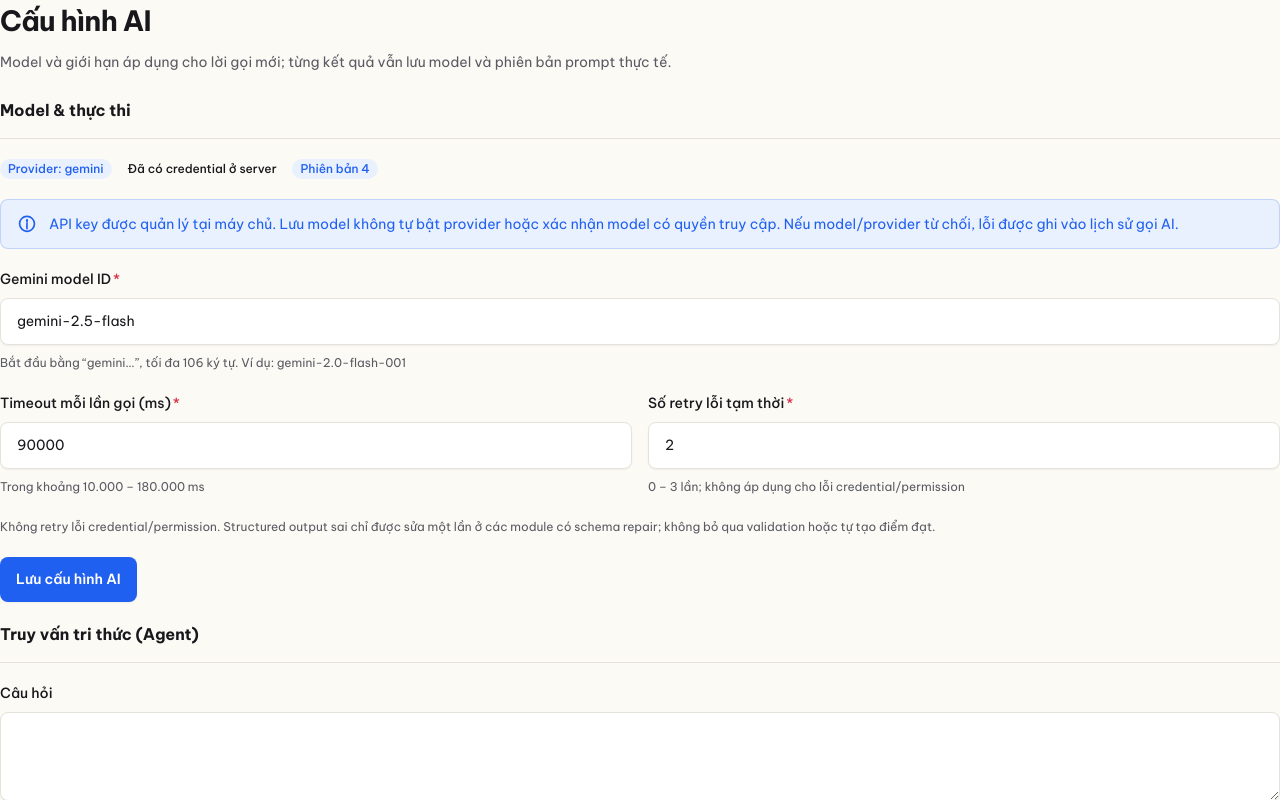
keeps edited values and never claims success when the server rejects a save
Replace the text in the field labelled "Gemini model ID*" with "gemini-2.5-pro". click: (640, 322)
box: left=0, top=298, right=1279, bottom=345
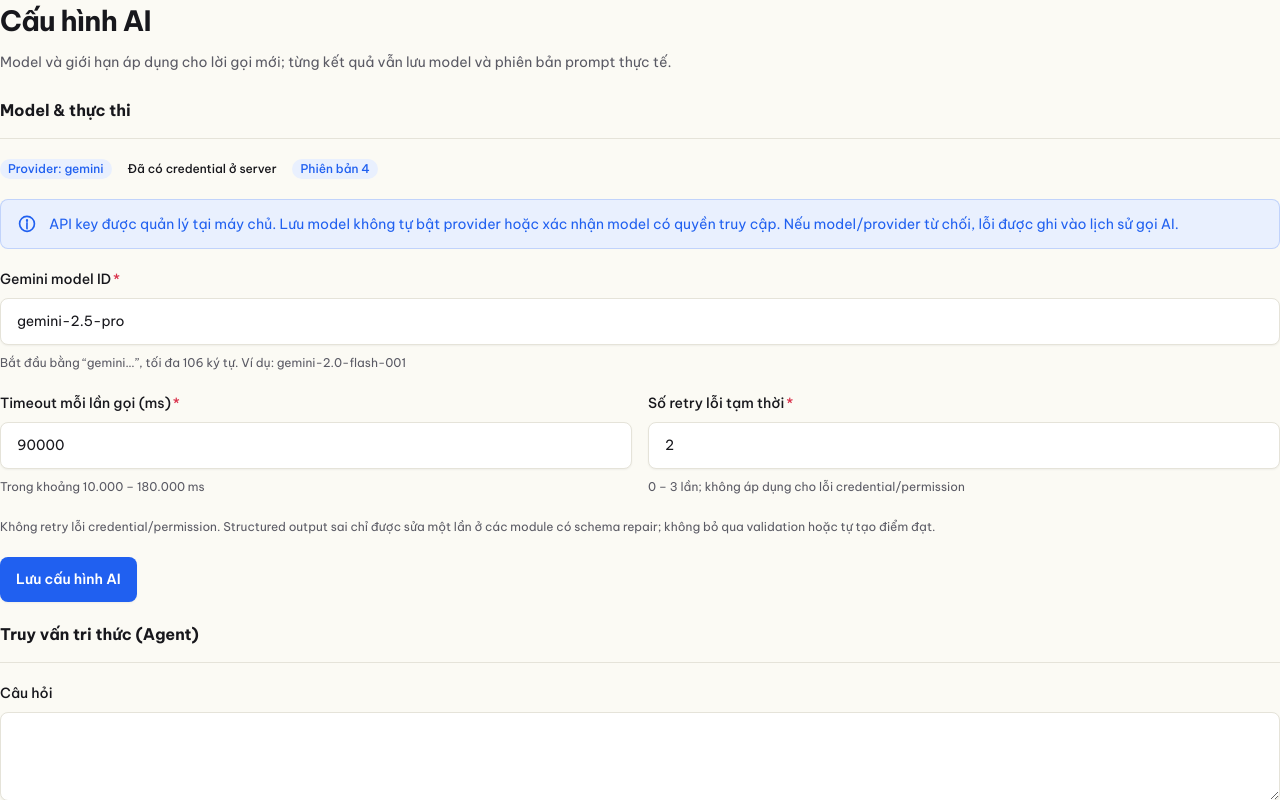
Submit the form named "Lưu cấu hình AI", box left=0, top=159, right=1279, bottom=602
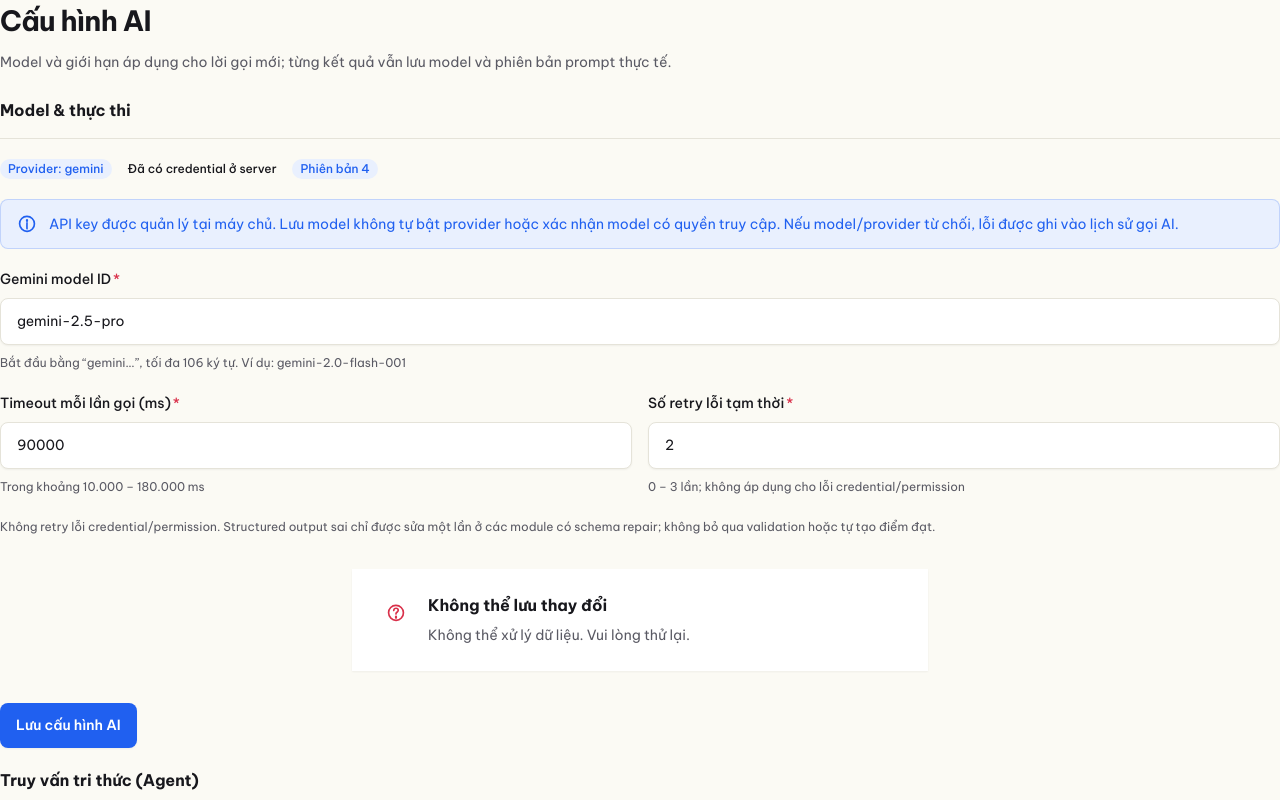
expect the message "Không thể lưu thay đổi Không thể xử lý dữ liệu. Vui lòng thử lại." is shown: met, box left=352, top=569, right=928, bottom=671
